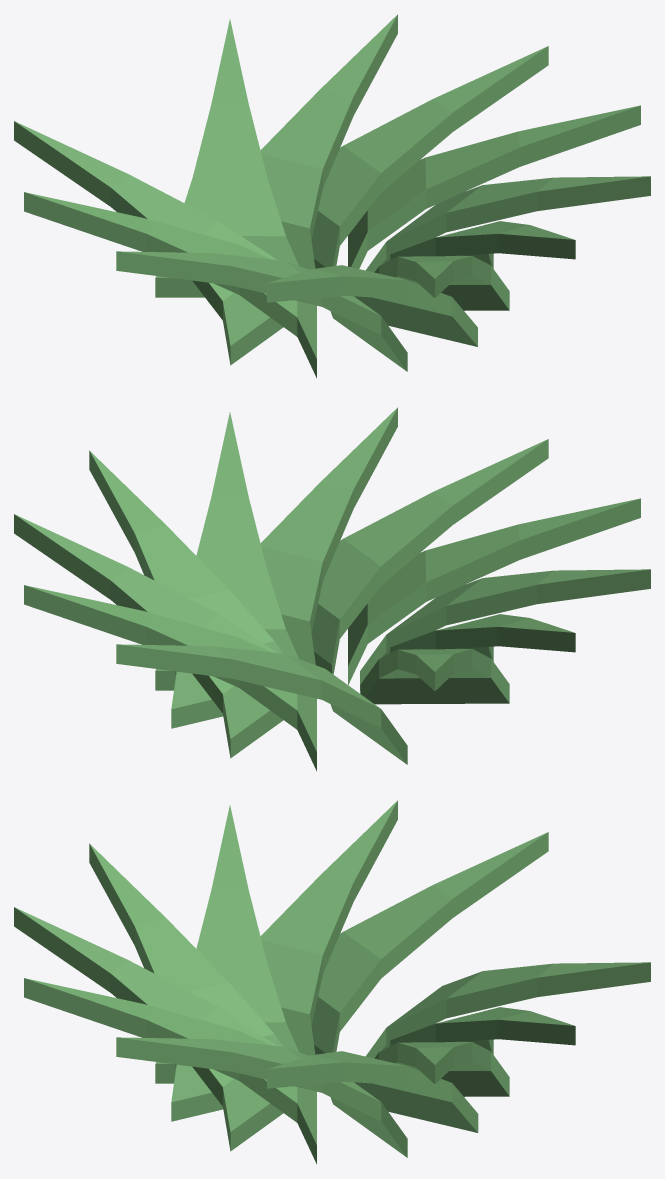
The model's file is gress2.fbx.
The picture shows the model from 3 angles, top to bottom: view 1: azimuth 30°, elevation 25°; view 2: azimuth 150°, elevation 25°; view 3: azimuth 270°, elevation 25°; orthographic projection.
Parts seen in each view (by area): view 1: gress12; view 2: gress12; view 3: gress12.
Part boxes in pixels (<box>): gress12: <box>14,14,650,378</box>; gress12: <box>14,407,650,771</box>; gress12: <box>14,800,650,1164</box>.
Bounding box in the file's own units: 1.2 × 0.325 × 1.2.
